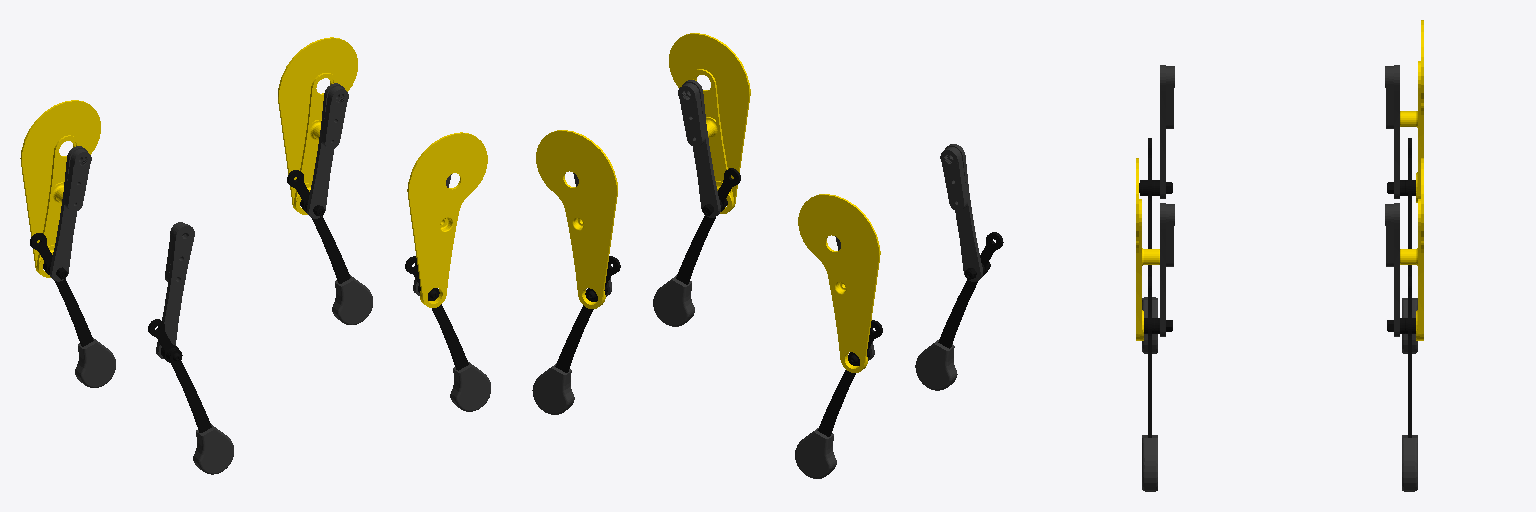
--- Render facts (derived) ---
3 views of the same robot in one strip: view 1: azimuth 30°, elevation 25°; view 2: azimuth 150°, elevation 25°; view 3: azimuth 270°, elevation 25° (orthographic).
Robot: mini_pupper — 32 links, 31 joints (12 revolute, 19 fixed); root link base_link; default pose: all joints at 0.
Links seen in each view (by area): view 1: Shell_Leg_Upper_RightSide_1, Shell_Leg_Upper_LeftSide_2, Shell_Leg_Upper_LeftSide_1, lb2, lf2, rb2, rb3, lbfoot, rbfoot, lffoot, rffoot, lf3 (+2 smaller); view 2: Shell_Leg_Upper_LeftSide_1, Shell_Leg_Upper_LeftSide_2, Shell_Leg_Upper_RightSide_1, rf2, rb2, rffoot, rbfoot, lffoot, lbfoot, rb3, rf3, lf3 (+1 smaller); view 3: lf2, rf2, rb2, lb2, Shell_Leg_Upper_LeftSide_1, Shell_Leg_Upper_RightSide_1, Shell_Leg_Upper_LeftSide_2, lf3, rf3, rffoot, lffoot, rb3 (+1 smaller).
Link boxes in pixels (box(x1,y1,x2,y2)): Shell_Leg_Upper_RightSide_1: box(407, 132, 487, 307); Shell_Leg_Upper_LeftSide_2: box(20, 100, 100, 277); Shell_Leg_Upper_LeftSide_1: box(278, 37, 357, 214); lb2: box(50, 146, 91, 281); lf2: box(307, 83, 348, 218); rb2: box(156, 222, 194, 358); rb3: box(148, 319, 211, 432); lbfoot: box(75, 338, 115, 387); rbfoot: box(193, 424, 233, 474); lffoot: box(332, 275, 372, 324); rffoot: box(450, 362, 490, 411); lf3: box(287, 170, 350, 283); Shell_Leg_Upper_LeftSide_1: box(536, 130, 617, 308); Shell_Leg_Upper_LeftSide_2: box(798, 194, 880, 372); Shell_Leg_Upper_RightSide_1: box(669, 33, 750, 213); rf2: box(678, 80, 720, 217); rb2: box(940, 144, 982, 281); rffoot: box(653, 275, 694, 326); rbfoot: box(915, 340, 957, 390); lffoot: box(532, 363, 574, 414); lbfoot: box(795, 428, 836, 478); rb3: box(938, 232, 1003, 348); rf3: box(676, 168, 740, 284); lf3: box(555, 256, 620, 372); lf2: box(1385, 203, 1399, 336); rf2: box(1160, 203, 1174, 336); rb2: box(1160, 65, 1174, 198); lb2: box(1385, 65, 1399, 198); Shell_Leg_Upper_LeftSide_1: box(1400, 158, 1423, 340); Shell_Leg_Upper_RightSide_1: box(1136, 158, 1159, 340); Shell_Leg_Upper_LeftSide_2: box(1400, 20, 1423, 202); lf3: box(1387, 276, 1415, 437); rf3: box(1144, 276, 1172, 437); rffoot: box(1142, 435, 1157, 491); lffoot: box(1402, 435, 1417, 491); rb3: box(1139, 138, 1172, 275).
Size in the robot's own frame: 0.1611 by 0.1064 by 0.1279 metres.
15 mesh visuals loaded from 30 distinct referenced files (15 binary STL); not drawn: 15 (reference not matched to a file when rendering).

The robot description file, URDF, robot "mini_pupper":
<?xml version="1.0" ?>
<!-- =================================================================================== -->
<!-- |    This document was autogenerated by xacro from mini_pupper_description.urdf.xacro | -->
<!-- |    EDITING THIS FILE BY HAND IS NOT RECOMMENDED                                 | -->
<!-- =================================================================================== -->
<robot name="mini_pupper">
  <material name="silver_default">
    <color rgba="0.700 0.700 0.700 1.000"/>
  </material>
  <material name="opaque666666">
    <color rgba="0.25882352941176473 0.25882352941176473 0.25882352941176473 1.0"/>
  </material>
  <material name="opaque252525">
    <color rgba="0.09803921568627451 0.09803921568627451 0.09803921568627451 1.0"/>
  </material>
  <material name="opaque636363">
    <color rgba="0.25098039215686274 0.25098039215686274 0.25098039215686274 1.0"/>
  </material>
  <material name="opaque2552210">
    <color rgba="1.0 0.8666666666666667 0.0 1.0"/>
  </material>
  <material name="opaque646464">
    <color rgba="0.25098039215686274 0.25098039215686274 0.25098039215686274 1.0"/>
  </material>
  <material name="opaque25524395">
    <color rgba="1.0 0.9529411764705882 0.37254901960784315 1.0"/>
  </material>
  <material name="opaque2491590">
    <color rgba="0.9764705882352941 0.6235294117647059 0.0 1.0"/>
  </material>
  <material name="opaque255255255">
    <color rgba="1.0 1.0 1.0 1.0"/>
  </material>
  <!-- <xacro:include filename="$(find mini_pupper_description)/urdf/mini_pupper_description.trans" /> -->
  <link name="base_link">
    <visual>
      <origin rpy="0 0 0" xyz="0 0 0"/>
      <geometry>
        <mesh filename="package://mini_pupper_description/meshes/base_link.stl" scale="1 1 1"/>
      </geometry>
      <material name="opaque252525"/>
    </visual>
    <collision>
      <origin rpy="0 0 0" xyz="0 0 0"/>
      <geometry>
        <mesh filename="package://mini_pupper_description/meshes/base_link.stl" scale="1 1 1"/>
      </geometry>
    </collision>
  </link>
  <link name="base_inertia">
    <inertial>
      <origin rpy="0 0 0" xyz="-0.008866664732250966 0.0006462612742260995 -0.007154314406453802"/>
      <mass value="0.09818420433466489"/>
      <inertia ixx="5.2e-05" ixy="1e-06" ixz="-1e-05" iyy="0.000244" iyz="1e-06" izz="0.000252"/>
    </inertial>
  </link>
  <link name="lf1">
    <inertial>
      <origin rpy="0 0 0" xyz="0.020109281613098752 0.002331771723067172 0.0064994497731911665"/>
      <mass value="0.020769030109708524"/>
      <inertia ixx="2e-06" ixy="0.0" ixz="0.0" iyy="4e-06" iyz="0.0" izz="3e-06"/>
    </inertial>
    <visual>
      <origin rpy="0 0 0" xyz="-0.037299 -0.023745 -5.7e-05"/>
      <geometry>
        <mesh filename="package://mini_pupper_description/meshes/lf1.stl" scale="1 1 1"/>
      </geometry>
      <material name="opaque666666"/>
    </visual>
    <collision>
      <origin rpy="0 0 0" xyz="-0.037299 -0.023745 -5.7e-05"/>
      <geometry>
        <mesh filename="package://mini_pupper_description/meshes/lf1.stl" scale="1 1 1"/>
      </geometry>
    </collision>
  </link>
  <link name="lf2">
    <inertial>
      <origin rpy="0 0 0" xyz="-0.0031735030993243693 0.000986055889313886 -0.01798354657247523"/>
      <mass value="0.0019057729925096327"/>
      <inertia ixx="0.0" ixy="0.0" ixz="0.0" iyy="0.0" iyz="0.0" izz="0.0"/>
    </inertial>
    <visual>
      <origin rpy="0 0 0" xyz="-0.052165 -0.041445 -5.7e-05"/>
      <geometry>
        <mesh filename="package://mini_pupper_description/meshes/lf2.stl" scale="1 1 1"/>
      </geometry>
      <material name="opaque636363"/>
    </visual>
    <collision>
      <origin rpy="0 0 0" xyz="-0.052165 -0.041445 -5.7e-05"/>
      <geometry>
        <mesh filename="package://mini_pupper_description/meshes/lf2.stl" scale="1 1 1"/>
      </geometry>
    </collision>
  </link>
  <link name="lf3">
    <inertial>
      <origin rpy="0 0 0" xyz="0.006210627225594921 0.003455723027058405 -0.015013638057132746"/>
      <mass value="0.0011438144457690698"/>
      <inertia ixx="1e-06" ixy="0.0" ixz="0.0" iyy="1e-06" iyz="0.0" izz="0.0"/>
    </inertial>
    <visual>
      <origin rpy="0 0 0" xyz="-0.043476 -0.044445 0.049183"/>
      <geometry>
        <mesh filename="package://mini_pupper_description/meshes/lf3.stl" scale="1 1 1"/>
      </geometry>
      <material name="opaque252525"/>
    </visual>
    <collision>
      <origin rpy="0 0 0" xyz="-0.043476 -0.044445 0.049183"/>
      <geometry>
        <mesh filename="package://mini_pupper_description/meshes/lf3.stl" scale="1 1 1"/>
      </geometry>
    </collision>
  </link>
  <link name="rf1">
    <inertial>
      <origin rpy="0 0 0" xyz="0.020106742599110078 -0.00233237781568562 0.006497900858401761"/>
      <mass value="0.020769549324466178"/>
      <inertia ixx="2e-06" ixy="0.0" ixz="0.0" iyy="4e-06" iyz="0.0" izz="3e-06"/>
    </inertial>
    <visual>
      <origin rpy="0 0 0" xyz="-0.037299 0.023255 -5.7e-05"/>
      <geometry>
        <mesh filename="package://mini_pupper_description/meshes/rf1.stl" scale="1 1 1"/>
      </geometry>
      <material name="opaque666666"/>
    </visual>
    <collision>
      <origin rpy="0 0 0" xyz="-0.037299 0.023255 -5.7e-05"/>
      <geometry>
        <mesh filename="package://mini_pupper_description/meshes/rf1.stl" scale="1 1 1"/>
      </geometry>
    </collision>
  </link>
  <link name="rf2">
    <inertial>
      <origin rpy="0 0 0" xyz="-0.00317137334512671 -0.000986627579459616 -0.01798392230653304"/>
      <mass value="0.0019057729924780605"/>
      <inertia ixx="0.0" ixy="0.0" ixz="0.0" iyy="0.0" iyz="0.0" izz="0.0"/>
    </inertial>
    <visual>
      <origin rpy="0 0 0" xyz="-0.052165 0.040955 -5.7e-05"/>
      <geometry>
        <mesh filename="package://mini_pupper_description/meshes/rf2.stl" scale="1 1 1"/>
      </geometry>
      <material name="opaque636363"/>
    </visual>
    <collision>
      <origin rpy="0 0 0" xyz="-0.052165 0.040955 -5.7e-05"/>
      <geometry>
        <mesh filename="package://mini_pupper_description/meshes/rf2.stl" scale="1 1 1"/>
      </geometry>
    </collision>
  </link>
  <link name="rf3">
    <inertial>
      <origin rpy="0 0 0" xyz="0.006211719758792998 -0.0034574884973188197 -0.01500899883342268"/>
      <mass value="0.001143490701517533"/>
      <inertia ixx="1e-06" ixy="0.0" ixz="0.0" iyy="1e-06" iyz="0.0" izz="0.0"/>
    </inertial>
    <visual>
      <origin rpy="0 0 0" xyz="-0.043482 0.043955 0.049184"/>
      <geometry>
        <mesh filename="package://mini_pupper_description/meshes/rf3.stl" scale="1 1 1"/>
      </geometry>
      <material name="opaque252525"/>
    </visual>
    <collision>
      <origin rpy="0 0 0" xyz="-0.043482 0.043955 0.049184"/>
      <geometry>
        <mesh filename="package://mini_pupper_description/meshes/rf3.stl" scale="1 1 1"/>
      </geometry>
    </collision>
  </link>
  <link name="rb1">
    <inertial>
      <origin rpy="0 0 0" xyz="-0.020107177922528044 -0.0023288309787250286 0.006502376356642127"/>
      <mass value="0.020769549324363486"/>
      <inertia ixx="2e-06" ixy="0.0" ixz="0.0" iyy="4e-06" iyz="0.0" izz="3e-06"/>
    </inertial>
    <visual>
      <origin rpy="0 0 0" xyz="0.042701 0.023255 -5.7e-05"/>
      <geometry>
        <mesh filename="package://mini_pupper_description/meshes/rb1.stl" scale="1 1 1"/>
      </geometry>
      <material name="opaque666666"/>
    </visual>
    <collision>
      <origin rpy="0 0 0" xyz="0.042701 0.023255 -5.7e-05"/>
      <geometry>
        <mesh filename="package://mini_pupper_description/meshes/rb1.stl" scale="1 1 1"/>
      </geometry>
    </collision>
  </link>
  <link name="rb2">
    <inertial>
      <origin rpy="0 0 0" xyz="-0.0031709881638501275 -0.0009964344348111775 -0.017982726579309202"/>
      <mass value="0.0019057729926311429"/>
      <inertia ixx="0.0" ixy="0.0" ixz="0.0" iyy="0.0" iyz="0.0" izz="0.0"/>
    </inertial>
    <visual>
      <origin rpy="0 0 0" xyz="0.068367 0.040955 -6.6e-05"/>
      <geometry>
        <mesh filename="package://mini_pupper_description/meshes/rb2.stl" scale="1 1 1"/>
      </geometry>
      <material name="opaque636363"/>
    </visual>
    <collision>
      <origin rpy="0 0 0" xyz="0.068367 0.040955 -6.6e-05"/>
      <geometry>
        <mesh filename="package://mini_pupper_description/meshes/rb2.stl" scale="1 1 1"/>
      </geometry>
    </collision>
  </link>
  <link name="rb3">
    <inertial>
      <origin rpy="0 0 0" xyz="0.006208573190273861 -0.0034623583329196975 -0.015001217060300935"/>
      <mass value="0.0011440535724654094"/>
      <inertia ixx="1e-06" ixy="0.0" ixz="0.0" iyy="1e-06" iyz="0.0" izz="0.0"/>
    </inertial>
    <visual>
      <origin rpy="0 0 0" xyz="0.077049 0.043982 0.049173"/>
      <geometry>
        <mesh filename="package://mini_pupper_description/meshes/rb3.stl" scale="1 1 1"/>
      </geometry>
      <material name="opaque252525"/>
    </visual>
    <collision>
      <origin rpy="0 0 0" xyz="0.077049 0.043982 0.049173"/>
      <geometry>
        <mesh filename="package://mini_pupper_description/meshes/rb3.stl" scale="1 1 1"/>
      </geometry>
    </collision>
  </link>
  <link name="lb1">
    <inertial>
      <origin rpy="0 0 0" xyz="-0.020109716415830967 0.0023317718989125207 0.006499556305653081"/>
      <mass value="0.020769030189864354"/>
      <inertia ixx="2e-06" ixy="0.0" ixz="0.0" iyy="4e-06" iyz="0.0" izz="3e-06"/>
    </inertial>
    <visual>
      <origin rpy="0 0 0" xyz="0.042701 -0.023745 -5.7e-05"/>
      <geometry>
        <mesh filename="package://mini_pupper_description/meshes/lb1.stl" scale="1 1 1"/>
      </geometry>
      <material name="opaque666666"/>
    </visual>
    <collision>
      <origin rpy="0 0 0" xyz="0.042701 -0.023745 -5.7e-05"/>
      <geometry>
        <mesh filename="package://mini_pupper_description/meshes/lb1.stl" scale="1 1 1"/>
      </geometry>
    </collision>
  </link>
  <link name="lb2">
    <inertial>
      <origin rpy="0 0 0" xyz="-0.0031709879518865836 0.0009860564153100285 -0.01798392227051571"/>
      <mass value="0.0019057729925095609"/>
      <inertia ixx="0.0" ixy="0.0" ixz="0.0" iyy="0.0" iyz="0.0" izz="0.0"/>
    </inertial>
    <visual>
      <origin rpy="0 0 0" xyz="0.068367 -0.041445 -5.7e-05"/>
      <geometry>
        <mesh filename="package://mini_pupper_description/meshes/lb2.stl" scale="1 1 1"/>
      </geometry>
      <material name="opaque636363"/>
    </visual>
    <collision>
      <origin rpy="0 0 0" xyz="0.068367 -0.041445 -5.7e-05"/>
      <geometry>
        <mesh filename="package://mini_pupper_description/meshes/lb2.stl" scale="1 1 1"/>
      </geometry>
    </collision>
  </link>
  <link name="lb3">
    <inertial>
      <origin rpy="0 0 0" xyz="0.006208905683926957 0.0034523757482988054 -0.015005654191541921"/>
      <mass value="0.001144346207072784"/>
      <inertia ixx="1e-06" ixy="0.0" ixz="0.0" iyy="1e-06" iyz="0.0" izz="0.0"/>
    </inertial>
    <visual>
      <origin rpy="0 0 0" xyz="0.077049 -0.044445 0.049184"/>
      <geometry>
        <mesh filename="package://mini_pupper_description/meshes/lb3.stl" scale="1 1 1"/>
      </geometry>
      <material name="opaque252525"/>
    </visual>
    <collision>
      <origin rpy="0 0 0" xyz="0.077049 -0.044445 0.049184"/>
      <geometry>
        <mesh filename="package://mini_pupper_description/meshes/lb3.stl" scale="1 1 1"/>
      </geometry>
    </collision>
  </link>
  <link name="Body_front">
    <inertial>
      <origin rpy="0 0 0" xyz="-0.005538678480206852 -0.00020424196520824284 0.020222593513387798"/>
      <mass value="0.00785515871148119"/>
      <inertia ixx="5e-06" ixy="0.0" ixz="0.0" iyy="2e-06" iyz="0.0" izz="4e-06"/>
    </inertial>
    <visual>
      <origin rpy="0 0 0" xyz="-0.089299 -0.000245 0.015543"/>
      <geometry>
        <mesh filename="package://mini_pupper_description/meshes/Body_front.stl" scale="1 1 1"/>
      </geometry>
      <material name="opaque2552210"/>
    </visual>
    <collision>
      <origin rpy="0 0 0" xyz="-0.089299 -0.000245 0.015543"/>
      <geometry>
        <mesh filename="package://mini_pupper_description/meshes/Body_front.stl" scale="1 1 1"/>
      </geometry>
    </collision>
  </link>
  <link name="Board_PCB">
    <inertial>
      <origin rpy="0 0 0" xyz="0.08946128454598752 0.025716073555853 -3.6415040620890043e-05"/>
      <mass value="0.014261552601793053"/>
      <inertia ixx="4e-06" ixy="0.0" ixz="0.0" iyy="3.5e-05" iyz="0.0" izz="3.9e-05"/>
    </inertial>
    <visual>
      <origin rpy="0 0 0" xyz="0.087701 0.023255 -0.026457"/>
      <geometry>
        <mesh filename="package://mini_pupper_description/meshes/Board_PCB.stl" scale="1 1 1"/>
      </geometry>
      <material name="opaque646464"/>
    </visual>
    <collision>
      <origin rpy="0 0 0" xyz="0.087701 0.023255 -0.026457"/>
      <geometry>
        <mesh filename="package://mini_pupper_description/meshes/Board_PCB.stl" scale="1 1 1"/>
      </geometry>
    </collision>
  </link>
  <link name="Board_connectors_1">
    <inertial>
      <origin rpy="0 0 0" xyz="-0.07276303117117414 -0.002323344081837563 -0.0010631239213060653"/>
      <mass value="0.004688613655947816"/>
      <inertia ixx="0.0" ixy="-1e-06" ixz="0.0" iyy="1.5e-05" iyz="0.0" izz="1.6e-05"/>
    </inertial>
    <visual>
      <origin rpy="0 0 0" xyz="-0.061334 -0.000217 -0.026457"/>
      <geometry>
        <mesh filename="package://mini_pupper_description/meshes/Board_connectors_1.stl" scale="1 1 1"/>
      </geometry>
      <material name="opaque2491590"/>
    </visual>
    <collision>
      <origin rpy="0 0 0" xyz="-0.061334 -0.000217 -0.026457"/>
      <geometry>
        <mesh filename="package://mini_pupper_description/meshes/Board_connectors_1.stl" scale="1 1 1"/>
      </geometry>
    </collision>
  </link>
  <link name="Board_connectors_2">
    <inertial>
      <origin rpy="0 0 0" xyz="0.008233541174180986 -0.002138369786547657 -0.00030110978110910874"/>
      <mass value="0.0019746031301169403"/>
      <inertia ixx="0.0" ixy="0.0" ixz="0.0" iyy="3e-06" iyz="0.0" izz="4e-06"/>
    </inertial>
    <visual>
      <origin rpy="0 0 0" xyz="0.045346 -0.000245 -0.026457"/>
      <geometry>
        <mesh filename="package://mini_pupper_description/meshes/Board_connectors_2.stl" scale="1 1 1"/>
      </geometry>
      <material name="opaque255255255"/>
    </visual>
    <collision>
      <origin rpy="0 0 0" xyz="0.045346 -0.000245 -0.026457"/>
      <geometry>
        <mesh filename="package://mini_pupper_description/meshes/Board_connectors_2.stl" scale="1 1 1"/>
      </geometry>
    </collision>
  </link>
  <link name="rffoot">
    <inertial>
      <origin rpy="0 0 0" xyz="-0.004983173489839052 -2.855799938611403e-07 0.006488367917121082"/>
      <mass value="0.0014053107976262874"/>
      <inertia ixx="0.0" ixy="0.0" ixz="0.0" iyy="0.0" iyz="0.0" izz="0.0"/>
    </inertial>
    <visual>
      <origin rpy="0 0 0" xyz="-0.068108 0.047705 0.103614"/>
      <geometry>
        <mesh filename="package://mini_pupper_description/meshes/rffoot.stl" scale="1 1 1"/>
      </geometry>
      <material name="opaque666666"/>
    </visual>
    <collision>
      <origin rpy="0 0 0" xyz="-0.068108 0.047705 0.103614"/>
      <geometry>
        <mesh filename="package://mini_pupper_description/meshes/rffoot.stl" scale="1 1 1"/>
      </geometry>
    </collision>
  </link>
  <link name="rbfoot">
    <inertial>
      <origin rpy="0 0 0" xyz="-0.004982788301465979 3.706995898918042e-06 0.006488719406103974"/>
      <mass value="0.0014053107976262874"/>
      <inertia ixx="0.0" ixy="0.0" ixz="0.0" iyy="0.0" iyz="0.0" izz="0.0"/>
    </inertial>
    <visual>
      <origin rpy="0 0 0" xyz="0.052424 0.047762 0.103601"/>
      <geometry>
        <mesh filename="package://mini_pupper_description/meshes/rbfoot.stl" scale="1 1 1"/>
      </geometry>
      <material name="opaque666666"/>
    </visual>
    <collision>
      <origin rpy="0 0 0" xyz="0.052424 0.047762 0.103601"/>
      <geometry>
        <mesh filename="package://mini_pupper_description/meshes/rbfoot.stl" scale="1 1 1"/>
      </geometry>
    </collision>
  </link>
  <link name="lbfoot">
    <inertial>
      <origin rpy="0 0 0" xyz="-0.004982788451759437 -2.855826620323798e-07 0.0064883680140642025"/>
      <mass value="0.0014053107976262874"/>
      <inertia ixx="0.0" ixy="0.0" ixz="0.0" iyy="0.0" iyz="0.0" izz="0.0"/>
    </inertial>
    <visual>
      <origin rpy="0 0 0" xyz="0.052424 -0.048195 0.103614"/>
      <geometry>
        <mesh filename="package://mini_pupper_description/meshes/lbfoot.stl" scale="1 1 1"/>
      </geometry>
      <material name="opaque666666"/>
    </visual>
    <collision>
      <origin rpy="0 0 0" xyz="0.052424 -0.048195 0.103614"/>
      <geometry>
        <mesh filename="package://mini_pupper_description/meshes/lbfoot.stl" scale="1 1 1"/>
      </geometry>
    </collision>
  </link>
  <link name="lffoot">
    <inertial>
      <origin rpy="0 0 0" xyz="-0.004983499344395154 -2.861132842799097e-07 0.006488888240325896"/>
      <mass value="0.0014053107976262874"/>
      <inertia ixx="0.0" ixy="0.0" ixz="0.0" iyy="0.0" iyz="0.0" izz="0.0"/>
    </inertial>
    <visual>
      <origin rpy="0 0 0" xyz="-0.068108 -0.048195 0.103611"/>
      <geometry>
        <mesh filename="package://mini_pupper_description/meshes/lffoot.stl" scale="1 1 1"/>
      </geometry>
      <material name="opaque666666"/>
    </visual>
    <collision>
      <origin rpy="0 0 0" xyz="-0.068108 -0.048195 0.103611"/>
      <geometry>
        <mesh filename="package://mini_pupper_description/meshes/lffoot.stl" scale="1 1 1"/>
      </geometry>
    </collision>
  </link>
  <link name="Shell_Hip_Left_1">
    <inertial>
      <origin rpy="0 0 0" xyz="0.002258882765982295 0.008667473212030541 -0.002747896746317195"/>
      <mass value="0.002573897544461238"/>
      <inertia ixx="0.0" ixy="0.0" ixz="0.0" iyy="0.0" iyz="0.0" izz="0.0"/>
    </inertial>
    <visual>
      <origin rpy="0 0 0" xyz="-0.071565 -0.038245 -0.013057"/>
      <geometry>
        <mesh filename="package://mini_pupper_description/meshes/Shell_Hip_Left_1.stl" scale="1 1 1"/>
      </geometry>
      <material name="opaque2552210"/>
    </visual>
    <collision>
      <origin rpy="0 0 0" xyz="-0.071565 -0.038245 -0.013057"/>
      <geometry>
        <mesh filename="package://mini_pupper_description/meshes/Shell_Hip_Left_1.stl" scale="1 1 1"/>
      </geometry>
    </collision>
  </link>
  <link name="Shell_Hip_Left_2">
    <inertial>
      <origin rpy="0 0 0" xyz="0.0022592683660053597 0.008667473212031727 -0.0027478967463174797"/>
      <mass value="0.002573897544461238"/>
      <inertia ixx="0.0" ixy="0.0" ixz="0.0" iyy="0.0" iyz="0.0" izz="0.0"/>
    </inertial>
    <visual>
      <origin rpy="0 0 0" xyz="0.048967 -0.038245 -0.013057"/>
      <geometry>
        <mesh filename="package://mini_pupper_description/meshes/Shell_Hip_Left_2.stl" scale="1 1 1"/>
      </geometry>
      <material name="opaque2552210"/>
    </visual>
    <collision>
      <origin rpy="0 0 0" xyz="0.048967 -0.038245 -0.013057"/>
      <geometry>
        <mesh filename="package://mini_pupper_description/meshes/Shell_Hip_Left_2.stl" scale="1 1 1"/>
      </geometry>
    </collision>
  </link>
  <link name="Shell_Hip_Right_1">
    <inertial>
      <origin rpy="0 0 0" xyz="0.002219644336096324 -0.008605630927951344 -0.002709000699399786"/>
      <mass value="0.002396251664132183"/>
      <inertia ixx="0.0" ixy="0.0" ixz="0.0" iyy="0.0" iyz="0.0" izz="0.0"/>
    </inertial>
    <visual>
      <origin rpy="0 0 0" xyz="-0.071565 0.037755 -0.013057"/>
      <geometry>
        <mesh filename="package://mini_pupper_description/meshes/Shell_Hip_Right_1.stl" scale="1 1 1"/>
      </geometry>
      <material name="opaque2552210"/>
    </visual>
    <collision>
      <origin rpy="0 0 0" xyz="-0.071565 0.037755 -0.013057"/>
      <geometry>
        <mesh filename="package://mini_pupper_description/meshes/Shell_Hip_Right_1.stl" scale="1 1 1"/>
      </geometry>
    </collision>
  </link>
  <link name="Shell_Hip_Right_2">
    <inertial>
      <origin rpy="0 0 0" xyz="0.0022200295152449145 -0.008607013686777375 -0.0027033986949916797"/>
      <mass value="0.002396251664132183"/>
      <inertia ixx="0.0" ixy="0.0" ixz="0.0" iyy="0.0" iyz="0.0" izz="0.0"/>
    </inertial>
    <visual>
      <origin rpy="0 0 0" xyz="0.048967 0.037748 -0.013064"/>
      <geometry>
        <mesh filename="package://mini_pupper_description/meshes/Shell_Hip_Right_2.stl" scale="1 1 1"/>
      </geometry>
      <material name="opaque2552210"/>
    </visual>
    <collision>
      <origin rpy="0 0 0" xyz="0.048967 0.037748 -0.013064"/>
      <geometry>
        <mesh filename="package://mini_pupper_description/meshes/Shell_Hip_Right_2.stl" scale="1 1 1"/>
      </geometry>
    </collision>
  </link>
  <link name="Shell_Leg_Upper_LeftSide_1">
    <inertial>
      <origin rpy="0 0 0" xyz="-0.001747332142694763 0.00790352811362327 0.005364507913861985"/>
      <mass value="0.0022314211131891203"/>
      <inertia ixx="1e-06" ixy="0.0" ixz="-0.0" iyy="1e-06" iyz="-0.0" izz="0.0"/>
    </inertial>
    <visual>
      <origin rpy="0 0 0" xyz="-0.048863 -0.044445 0.018654"/>
      <geometry>
        <mesh filename="package://mini_pupper_description/meshes/Shell_Leg_Upper_LeftSide_1.stl" scale="1 1 1"/>
      </geometry>
      <material name="opaque2552210"/>
    </visual>
    <collision>
      <origin rpy="0 0 0" xyz="-0.048863 -0.044445 0.018654"/>
      <geometry>
        <mesh filename="package://mini_pupper_description/meshes/Shell_Leg_Upper_LeftSide_1.stl" scale="1 1 1"/>
      </geometry>
    </collision>
  </link>
  <link name="Shell_Leg_Upper_LeftSide_2">
    <inertial>
      <origin rpy="0 0 0" xyz="-0.001747730780760487 0.007903528639619323 0.005365117008527457"/>
      <mass value="0.0022314211131891203"/>
      <inertia ixx="1e-06" ixy="0.0" ixz="-0.0" iyy="1e-06" iyz="-0.0" izz="0.0"/>
    </inertial>
    <visual>
      <origin rpy="0 0 0" xyz="0.071666 -0.044445 0.018655"/>
      <geometry>
        <mesh filename="package://mini_pupper_description/meshes/Shell_Leg_Upper_LeftSide_2.stl" scale="1 1 1"/>
      </geometry>
      <material name="opaque2552210"/>
    </visual>
    <collision>
      <origin rpy="0 0 0" xyz="0.071666 -0.044445 0.018655"/>
      <geometry>
        <mesh filename="package://mini_pupper_description/meshes/Shell_Leg_Upper_LeftSide_2.stl" scale="1 1 1"/>
      </geometry>
    </collision>
  </link>
  <link name="Shell_Leg_Upper_RightSide_1">
    <inertial>
      <origin rpy="0 0 0" xyz="-0.0018083907227202795 -0.007907075713007514 0.005388328467850496"/>
      <mass value="0.002201611562253873"/>
      <inertia ixx="1e-06" ixy="-0.0" ixz="-0.0" iyy="1e-06" iyz="0.0" izz="0.0"/>
    </inertial>
    <visual>
      <origin rpy="0 0 0" xyz="-0.048865 0.043955 0.018655"/>
      <geometry>
        <mesh filename="package://mini_pupper_description/meshes/Shell_Leg_Upper_RightSide_1.stl" scale="1 1 1"/>
      </geometry>
      <material name="opaque2552210"/>
    </visual>
    <collision>
      <origin rpy="0 0 0" xyz="-0.048865 0.043955 0.018655"/>
      <geometry>
        <mesh filename="package://mini_pupper_description/meshes/Shell_Leg_Upper_RightSide_1.stl" scale="1 1 1"/>
      </geometry>
    </collision>
  </link>
  <link name="Shell_Leg_Upper_RightSide_2">
    <inertial>
      <origin rpy="0 0 0" xyz="-0.0018090055415128231 -0.007904339012704771 0.005392934920359041"/>
      <mass value="0.002201611562253873"/>
      <inertia ixx="1e-06" ixy="-0.0" ixz="-0.0" iyy="1e-06" iyz="0.0" izz="0.0"/>
    </inertial>
    <visual>
      <origin rpy="0 0 0" xyz="0.071666 0.043965 0.018644"/>
      <geometry>
        <mesh filename="package://mini_pupper_description/meshes/Shell_Leg_Upper_RightSide_2.stl" scale="1 1 1"/>
      </geometry>
      <material name="opaque2552210"/>
    </visual>
    <collision>
      <origin rpy="0 0 0" xyz="0.071666 0.043965 0.018644"/>
      <geometry>
        <mesh filename="package://mini_pupper_description/meshes/Shell_Leg_Upper_RightSide_2.stl" scale="1 1 1"/>
      </geometry>
    </collision>
  </link>
  <link name="Shell_Side">
    <inertial>
      <origin rpy="0 0 0" xyz="-2.7696824994153518e-05 0.029999714418054345 0.022370567779566777"/>
      <mass value="0.0051928835390001775"/>
      <inertia ixx="6e-06" ixy="0.0" ixz="0.0" iyy="3e-06" iyz="0.0" izz="7e-06"/>
    </inertial>
    <visual>
      <origin rpy="0 0 0" xyz="0.002701 0.029755 0.016293"/>
      <geometry>
        <mesh filename="package://mini_pupper_description/meshes/Shell_Side.stl" scale="1 1 1"/>
      </geometry>
      <material name="opaque2552210"/>
    </visual>
    <collision>
      <origin rpy="0 0 0" xyz="0.002701 0.029755 0.016293"/>
      <geometry>
        <mesh filename="package://mini_pupper_description/meshes/Shell_Side.stl" scale="1 1 1"/>
      </geometry>
    </collision>
  </link>
  <joint name="base_link_to_base_inertia" type="fixed">
    <parent link="base_link"/>
    <child link="base_inertia"/>
    <origin rpy="0 0 0" xyz="0 0 0"/>
  </joint>
  <joint name="base_lf1" type="revolute">
    <origin rpy="0 0 0" xyz="0.037299 0.023745 5.7e-05"/>
    <parent link="base_link"/>
    <child link="lf1"/>
    <axis xyz="1.0 0.0 0.0"/>
    <limit effort="5" lower="-3.141593" upper="3.141593" velocity="1.5"/>
  </joint>
  <joint name="lf1_lf2" type="revolute">
    <origin rpy="0 0 0" xyz="0.014866 0.0177 0.0"/>
    <parent link="lf1"/>
    <child link="lf2"/>
    <axis xyz="0.0 1.0 0.0"/>
    <limit effort="5" lower="-3.141593" upper="3.141593" velocity="1.5"/>
  </joint>
  <joint name="lf2_lf3" type="revolute">
    <origin rpy="0 0 0" xyz="-0.008689 0.003 -0.04924"/>
    <parent link="lf2"/>
    <child link="lf3"/>
    <axis xyz="0.0 1.0 0.0"/>
    <limit effort="5" lower="-3.141593" upper="3.141593" velocity="1.5"/>
  </joint>
  <joint name="base_rf1" type="revolute">
    <origin rpy="0 0 0" xyz="0.037299 -0.023255 5.7e-05"/>
    <parent link="base_link"/>
    <child link="rf1"/>
    <axis xyz="1.0 0.0 0.0"/>
    <limit effort="5" lower="-3.141593" upper="3.141593" velocity="1.5"/>
  </joint>
  <joint name="rf1_rf2" type="revolute">
    <origin rpy="0 0 0" xyz="0.014866 -0.0177 0.0"/>
    <parent link="rf1"/>
    <child link="rf2"/>
    <axis xyz="0.0 1.0 0.0"/>
    <limit effort="5" lower="-3.141593" upper="3.141593" velocity="1.5"/>
  </joint>
  <joint name="rf2_rf3" type="revolute">
    <origin rpy="0 0 0" xyz="-0.008683 -0.003 -0.049241"/>
    <parent link="rf2"/>
    <child link="rf3"/>
    <axis xyz="0.0 1.0 0.0"/>
    <limit effort="5" lower="-3.141593" upper="3.141593" velocity="1.5"/>
  </joint>
  <joint name="base_rb1" type="revolute">
    <origin rpy="0 0 0" xyz="-0.042701 -0.023255 5.7e-05"/>
    <parent link="base_link"/>
    <child link="rb1"/>
    <axis xyz="1.0 0.0 0.0"/>
    <limit effort="5" lower="-3.141593" upper="3.141593" velocity="1.5"/>
  </joint>
  <joint name="rb1_rb2" type="revolute">
    <origin rpy="0 0 0" xyz="-0.025666 -0.0177 9e-06"/>
    <parent link="rb1"/>
    <child link="rb2"/>
    <axis xyz="0.0 1.0 0.0"/>
    <limit effort="5" lower="-3.141593" upper="3.141593" velocity="1.5"/>
  </joint>
  <joint name="rb2_rb3" type="revolute">
    <origin rpy="0 0 0" xyz="-0.008682 -0.003027 -0.049239"/>
    <parent link="rb2"/>
    <child link="rb3"/>
    <axis xyz="0.0 1.0 0.0"/>
    <limit effort="5" lower="-3.141593" upper="3.141593" velocity="1.5"/>
  </joint>
  <joint name="base_lb1" type="revolute">
    <origin rpy="0 0 0" xyz="-0.042701 0.023745 5.7e-05"/>
    <parent link="base_link"/>
    <child link="lb1"/>
    <axis xyz="1.0 0.0 0.0"/>
    <limit effort="5" lower="-3.141593" upper="3.141593" velocity="1.5"/>
  </joint>
  <joint name="lb1_lb2" type="revolute">
    <origin rpy="0 0 0" xyz="-0.025666 0.0177 0.0"/>
    <parent link="lb1"/>
    <child link="lb2"/>
    <axis xyz="0.0 1.0 0.0"/>
    <limit effort="5" lower="-3.141593" upper="3.141593" velocity="1.5"/>
  </joint>
  <joint name="lb2_lb3" type="revolute">
    <origin rpy="0 0 0" xyz="-0.008682 0.003 -0.049241"/>
    <parent link="lb2"/>
    <child link="lb3"/>
    <axis xyz="0.0 1.0 0.0"/>
    <limit effort="5" lower="-3.141593" upper="3.141593" velocity="1.5"/>
  </joint>
  <joint name="base_front" type="fixed">
    <origin rpy="0 0 0" xyz="0.089299 0.000245 -0.015543"/>
    <parent link="base_link"/>
    <child link="Body_front"/>
  </joint>
  <joint name="base_board" type="fixed">
    <origin rpy="0 0 0" xyz="-0.087701 -0.023255 0.026457"/>
    <parent link="base_link"/>
    <child link="Board_PCB"/>
  </joint>
  <joint name="base_cn1" type="fixed">
    <origin rpy="0 0 0" xyz="0.149035 0.023472 0.0"/>
    <parent link="Board_PCB"/>
    <child link="Board_connectors_1"/>
  </joint>
  <joint name="base_cn2" type="fixed">
    <origin rpy="0 0 0" xyz="0.042355 0.0235 0.0"/>
    <parent link="Board_PCB"/>
    <child link="Board_connectors_2"/>
  </joint>
  <joint name="rf3_foot" type="fixed">
    <origin rpy="0 0 0" xyz="0.024626 -0.00375 -0.05443"/>
    <parent link="rf3"/>
    <child link="rffoot"/>
  </joint>
  <joint name="rb3_foot" type="fixed">
    <origin rpy="0 0 0" xyz="0.024625 -0.00378 -0.054428"/>
    <parent link="rb3"/>
    <child link="rbfoot"/>
  </joint>
  <joint name="lb3_foot" type="fixed">
    <origin rpy="0 0 0" xyz="0.024625 0.00375 -0.05443"/>
    <parent link="lb3"/>
    <child link="lbfoot"/>
  </joint>
  <joint name="lf3_foot" type="fixed">
    <origin rpy="0 0 0" xyz="0.024632 0.00375 -0.054428"/>
    <parent link="lf3"/>
    <child link="lffoot"/>
  </joint>
  <joint name="lf1_hip" type="fixed">
    <origin rpy="0 0 0" xyz="0.034266 0.0145 0.013"/>
    <parent link="lf1"/>
    <child link="Shell_Hip_Left_1"/>
  </joint>
  <joint name="lb1_hip" type="fixed">
    <origin rpy="0 0 0" xyz="-0.006266 0.0145 0.013"/>
    <parent link="lb1"/>
    <child link="Shell_Hip_Left_2"/>
  </joint>
  <joint name="rf1_hip" type="fixed">
    <origin rpy="0 0 0" xyz="0.034266 -0.0145 0.013"/>
    <parent link="rf1"/>
    <child link="Shell_Hip_Right_1"/>
  </joint>
  <joint name="rb2_hip" type="fixed">
    <origin rpy="0 0 0" xyz="-0.006266 -0.014493 0.013007"/>
    <parent link="rb1"/>
    <child link="Shell_Hip_Right_2"/>
  </joint>
  <joint name="lf2_shell" type="fixed">
    <origin rpy="0 0 0" xyz="-0.003302 0.003 -0.018711"/>
    <parent link="lf2"/>
    <child link="Shell_Leg_Upper_LeftSide_1"/>
  </joint>
  <joint name="lb2_shell" type="fixed">
    <origin rpy="0 0 0" xyz="-0.003299 0.003 -0.018712"/>
    <parent link="lb2"/>
    <child link="Shell_Leg_Upper_LeftSide_2"/>
  </joint>
  <joint name="rf2_shell" type="fixed">
    <origin rpy="0 0 0" xyz="-0.0033 -0.003 -0.018712"/>
    <parent link="rf2"/>
    <child link="Shell_Leg_Upper_RightSide_1"/>
  </joint>
  <joint name="rb2_shell" type="fixed">
    <origin rpy="0 0 0" xyz="-0.003299 -0.00301 -0.01871"/>
    <parent link="rb2"/>
    <child link="Shell_Leg_Upper_RightSide_2"/>
  </joint>
  <joint name="base_sides" type="fixed">
    <origin rpy="0 0 0" xyz="-0.002701 -0.029755 -0.016293"/>
    <parent link="base_link"/>
    <child link="Shell_Side"/>
  </joint>
  <ros2_control name="GazeboSystem" type="system">
    <hardware>
      <plugin>gazebo_ros2_control/GazeboSystem</plugin>
    </hardware>
    <joint name="base_lf1">
      <command_interface name="effort"/>
      <state_interface name="position"/>
      <state_interface name="velocity"/>
    </joint>
    <joint name="lf1_lf2">
      <command_interface name="effort"/>
      <state_interface name="position"/>
      <state_interface name="velocity"/>
    </joint>
    <joint name="lf2_lf3">
      <command_interface name="effort"/>
      <state_interface name="position"/>
      <state_interface name="velocity"/>
    </joint>
    <joint name="base_rf1">
      <command_interface name="effort"/>
      <state_interface name="position"/>
      <state_interface name="velocity"/>
    </joint>
    <joint name="rf1_rf2">
      <command_interface name="effort"/>
      <state_interface name="position"/>
      <state_interface name="velocity"/>
    </joint>
    <joint name="rf2_rf3">
      <command_interface name="effort"/>
      <state_interface name="position"/>
      <state_interface name="velocity"/>
    </joint>
    <joint name="base_lb1">
      <command_interface name="effort"/>
      <state_interface name="position"/>
      <state_interface name="velocity"/>
    </joint>
    <joint name="lb1_lb2">
      <command_interface name="effort"/>
      <state_interface name="position"/>
      <state_interface name="velocity"/>
    </joint>
    <joint name="lb2_lb3">
      <command_interface name="effort"/>
      <state_interface name="position"/>
      <state_interface name="velocity"/>
    </joint>
    <joint name="base_rb1">
      <command_interface name="effort"/>
      <state_interface name="position"/>
      <state_interface name="velocity"/>
    </joint>
    <joint name="rb1_rb2">
      <command_interface name="effort"/>
      <state_interface name="position"/>
      <state_interface name="velocity"/>
    </joint>
    <joint name="rb2_rb3">
      <command_interface name="effort"/>
      <state_interface name="position"/>
      <state_interface name="velocity"/>
    </joint>
  </ros2_control>
  <!-- coloring Gazebo model -->
  <gazebo reference="base_link">
    <material>Gazebo/FlatBlack</material>
  </gazebo>
  <gazebo reference="Shell_Side">
    <material>Gazebo/Yellow</material>
  </gazebo>
  <gazebo reference="lf1">
    <kp>1000000.0</kp>
    <kd>1.0</kd>
    <mu1>0.8</mu1>
    <mu2>0.8</mu2>
    <maxVel>0.0</maxVel>
    <minDepth>0.001</minDepth>
    <material>Gazebo/FlatBlack</material>
  </gazebo>
  <gazebo reference="Shell_Hip_Left_1">
    <material>Gazebo/Yellow</material>
  </gazebo>
  <gazebo reference="lf2">
    <kp>1000000.0</kp>
    <kd>1.0</kd>
    <mu1>0.8</mu1>
    <mu2>0.8</mu2>
    <maxVel>0.0</maxVel>
    <minDepth>0.001</minDepth>
    <material>Gazebo/FlatBlack</material>
  </gazebo>
  <gazebo reference="Shell_Leg_Upper_LeftSide_1">
    <material>Gazebo/Yellow</material>
  </gazebo>
  <gazebo reference="lf3">
    <kp>1000000.0</kp>
    <kd>1.0</kd>
    <mu1>0.8</mu1>
    <mu2>0.8</mu2>
    <maxVel>0.0</maxVel>
    <minDepth>0.001</minDepth>
    <material>Gazebo/FlatBlack</material>
  </gazebo>
  <gazebo reference="lffoot">
    <kp>1000000.0</kp>
    <kd>1.0</kd>
    <mu1>0.8</mu1>
    <mu2>0.8</mu2>
    <maxVel>0.0</maxVel>
    <minDepth>0.001</minDepth>
    <material>Gazebo/FlatBlack</material>
  </gazebo>
  <gazebo reference="rf1">
    <kp>1000000.0</kp>
    <kd>1.0</kd>
    <mu1>0.8</mu1>
    <mu2>0.8</mu2>
    <maxVel>0.0</maxVel>
    <minDepth>0.001</minDepth>
    <material>Gazebo/FlatBlack</material>
  </gazebo>
  <gazebo reference="Shell_Hip_Right_1">
    <material>Gazebo/Yellow</material>
  </gazebo>
  <gazebo reference="rf2">
    <kp>1000000.0</kp>
    <kd>1.0</kd>
    <mu1>0.8</mu1>
    <mu2>0.8</mu2>
    <maxVel>0.0</maxVel>
    <minDepth>0.001</minDepth>
    <material>Gazebo/FlatBlack</material>
  </gazebo>
  <gazebo reference="Shell_Leg_Upper_RightSide_1">
    <material>Gazebo/Yellow</material>
  </gazebo>
  <gazebo reference="rf3">
    <kp>1000000.0</kp>
    <kd>1.0</kd>
    <mu1>0.8</mu1>
    <mu2>0.8</mu2>
    <maxVel>0.0</maxVel>
    <minDepth>0.001</minDepth>
    <material>Gazebo/FlatBlack</material>
  </gazebo>
  <gazebo reference="rffoot">
    <kp>1000000.0</kp>
    <kd>1.0</kd>
    <mu1>0.8</mu1>
    <mu2>0.8</mu2>
    <maxVel>0.0</maxVel>
    <minDepth>0.001</minDepth>
    <material>Gazebo/FlatBlack</material>
  </gazebo>
  <gazebo reference="lb1">
    <kp>1000000.0</kp>
    <kd>1.0</kd>
    <mu1>0.8</mu1>
    <mu2>0.8</mu2>
    <maxVel>0.0</maxVel>
    <minDepth>0.001</minDepth>
    <material>Gazebo/FlatBlack</material>
  </gazebo>
  <gazebo reference="Shell_Hip_Left_2">
    <material>Gazebo/Yellow</material>
  </gazebo>
  <gazebo reference="lb2">
    <kp>1000000.0</kp>
    <kd>1.0</kd>
    <mu1>0.8</mu1>
    <mu2>0.8</mu2>
    <maxVel>0.0</maxVel>
    <minDepth>0.001</minDepth>
    <material>Gazebo/FlatBlack</material>
  </gazebo>
  <gazebo reference="Shell_Leg_Upper_LeftSide_2">
    <material>Gazebo/Yellow</material>
  </gazebo>
  <gazebo reference="lb3">
    <kp>1000000.0</kp>
    <kd>1.0</kd>
    <mu1>0.8</mu1>
    <mu2>0.8</mu2>
    <maxVel>0.0</maxVel>
    <minDepth>0.001</minDepth>
    <material>Gazebo/FlatBlack</material>
  </gazebo>
  <gazebo reference="lbfoot">
    <kp>1000000.0</kp>
    <kd>1.0</kd>
    <mu1>0.8</mu1>
    <mu2>0.8</mu2>
    <maxVel>0.0</maxVel>
    <minDepth>0.001</minDepth>
    <material>Gazebo/FlatBlack</material>
  </gazebo>
  <gazebo reference="rb1">
    <kp>1000000.0</kp>
    <kd>1.0</kd>
    <mu1>0.8</mu1>
    <mu2>0.8</mu2>
    <maxVel>0.0</maxVel>
    <minDepth>0.001</minDepth>
    <material>Gazebo/FlatBlack</material>
  </gazebo>
  <gazebo reference="Shell_Hip_Right_2">
    <material>Gazebo/Yellow</material>
  </gazebo>
  <gazebo reference="rb2">
    <kp>1000000.0</kp>
    <kd>1.0</kd>
    <mu1>0.8</mu1>
    <mu2>0.8</mu2>
    <maxVel>0.0</maxVel>
    <minDepth>0.001</minDepth>
    <material>Gazebo/FlatBlack</material>
  </gazebo>
  <gazebo reference="Shell_Leg_Upper_RightSide_2">
    <material>Gazebo/Yellow</material>
  </gazebo>
  <gazebo reference="rb3">
    <kp>1000000.0</kp>
    <kd>1.0</kd>
    <mu1>0.8</mu1>
    <mu2>0.8</mu2>
    <maxVel>0.0</maxVel>
    <minDepth>0.001</minDepth>
    <material>Gazebo/FlatBlack</material>
  </gazebo>
  <gazebo reference="rbfoot">
    <kp>1000000.0</kp>
    <kd>1.0</kd>
    <mu1>0.8</mu1>
    <mu2>0.8</mu2>
    <maxVel>0.0</maxVel>
    <minDepth>0.001</minDepth>
    <material>Gazebo/FlatBlack</material>
  </gazebo>
  <!-- <gazebo reference="lidar_link">
    <material>Gazebo/FlatBlack</material>
    <sensor type="ray" name="lidar">
      <always_on>true</always_on>
      <update_rate>30</update_rate>
      <pose>0 0 0 0 0 0</pose>
      <visualize>false</visualize>
      <ray>
        <scan>
          <horizontal>
            <samples>1040</samples>
            <resolution>1</resolution>
            <min_angle>0</min_angle>
            <max_angle>6.28</max_angle>
          </horizontal>
        </scan>
        <range>
          <min>0.2</min>
          <max>50.0</max>
          <resolution>0.01</resolution>
        </range>
        <noise>
          <type>gaussian</type>
          <mean>0.0</mean>
          <stddev>0.004</stddev>
        </noise>
      </ray>
      <plugin name="gazebo_ros_lidar_controller" filename="libgazebo_ros_ray_sensor.so">
        <ros>
          <argument>~/out:=/scan</argument>
        </ros>
        <output_type>sensor_msgs/LaserScan</output_type>
        <frame_name>lidar_link</frame_name> -->
  <!--min_intensity>100.0</min_intensity-->
  <!-- </plugin>
    </sensor>
  </gazebo> -->
  <gazebo>
    <plugin filename="libgazebo_ros_p3d.so" name="p3d_base_controller">
      <ros>
        <argument>odom:=odom/ground_truth</argument>
      </ros>
      <body_name>base_link</body_name>
      <frame_name>world</frame_name>
      <update_rate>10.0</update_rate>
      <xyz_offset>0 0 0</xyz_offset>
      <rpy_offset>0 0 0</rpy_offset>
      <gaussian_noise>0.01</gaussian_noise>
    </plugin>
  </gazebo>
  <gazebo>
    <plugin filename="libgazebo_ros2_control.so" name="gazebo_ros2_control">
      <parameters>[local-path]/ros2_ws/install/mini_pupper_description/share/mini_pupper_description/config/ros_control/mini_pupper_controller.yaml</parameters>
    </plugin>
  </gazebo>
  <link name="imu_link">
    <inertial>
      <mass value="0.0001"/>
      <origin rpy="0 0 0" xyz="0 0 0"/>
      <inertia ixx="1e-09" ixy="0.0" ixz="0.0" iyy="1e-09" iyz="0.0" izz="1e-09"/>
    </inertial>
  </link>
  <joint name="imu_joint" type="fixed">
    <parent link="base_link"/>
    <child link="imu_link"/>
  </joint>
  <gazebo reference="imu_link">
    <sensor name="imu_controller" type="imu">
      <always_on>true</always_on>
      <update_rate>50</update_rate>
      <plugin filename="libgazebo_ros_imu_sensor.so" name="gazebo_ros_imu_sensor">
        <ros>
          <namespace>/imu</namespace>
          <argument>~/out:=data</argument>
        </ros>
      </plugin>
    </sensor>
  </gazebo>
</robot>
